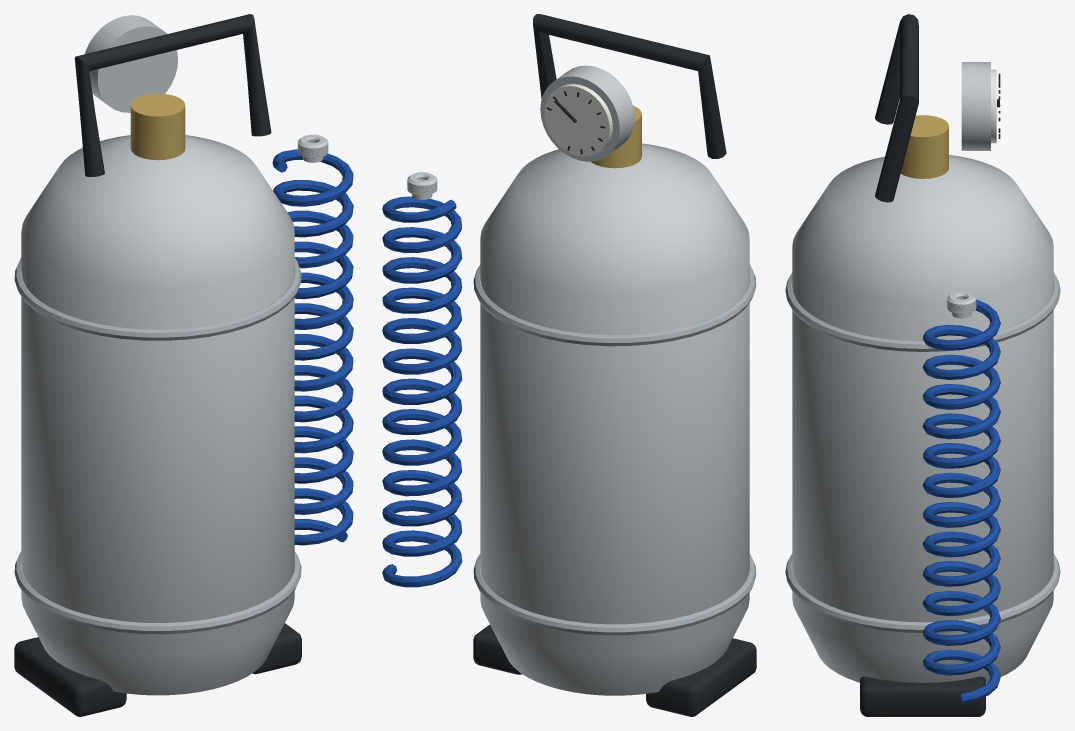
File: pressure_vessel_device.glb
The picture shows the model from 3 angles, left to right: view 1: azimuth 30°, elevation 25°; view 2: azimuth 150°, elevation 25°; view 3: azimuth 270°, elevation 25°; orthographic projection. The views are drawn at different scales.
Visible parts, largest first — view 1: pressure_vessel_device; view 2: pressure_vessel_device; view 3: pressure_vessel_device.
Boxes of the visible parts, bbox=[...] form: pressure_vessel_device: bbox=[14, 14, 353, 716]; pressure_vessel_device: bbox=[382, 14, 756, 716]; pressure_vessel_device: bbox=[785, 14, 1060, 716].
Bounding box in the file's own units: 0.4236 × 0.7709 × 0.3145.
